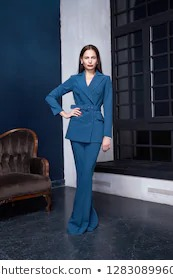F_W_suit jacket: (41, 71, 114, 147)
S_W_pants: (64, 132, 102, 234)
